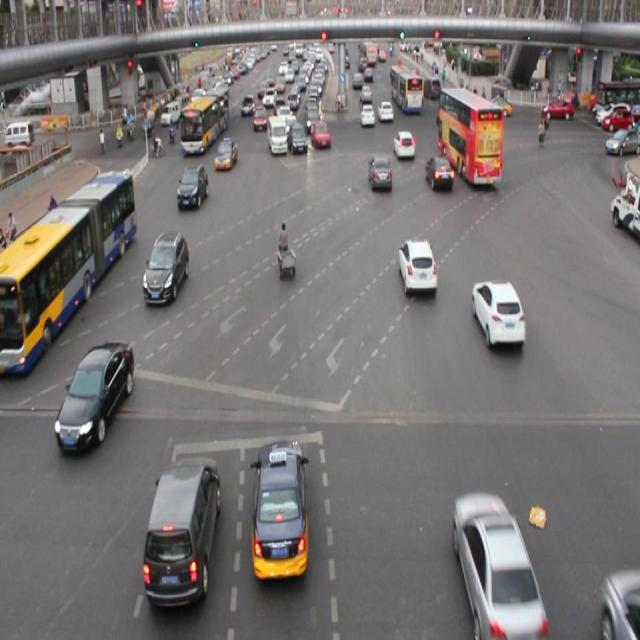car: (453, 494, 538, 640), (58, 342, 133, 449), (252, 444, 310, 575), (473, 280, 524, 346), (144, 231, 188, 302), (398, 237, 436, 294), (177, 166, 208, 210), (427, 157, 453, 194), (368, 154, 392, 193), (214, 135, 237, 168), (393, 129, 414, 161), (289, 122, 306, 157), (311, 121, 330, 147)
truck: (143, 458, 218, 605), (266, 116, 286, 154)
van: (1, 168, 135, 374), (440, 87, 500, 184), (182, 87, 230, 154)
